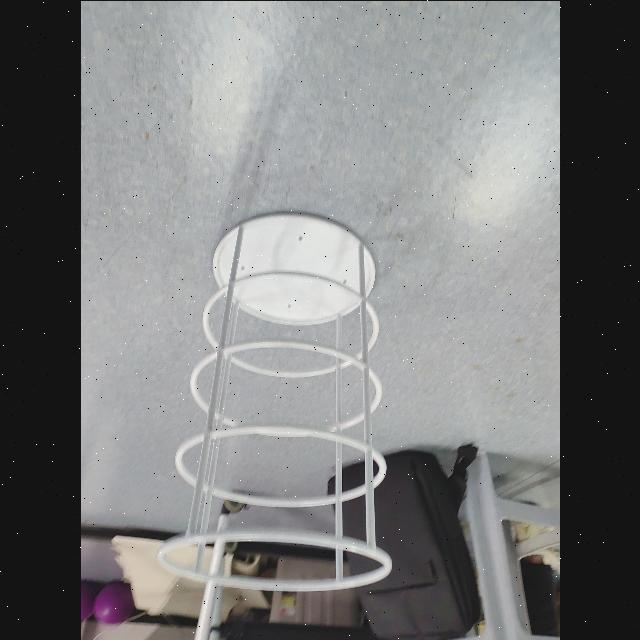S: (154, 208, 398, 598)
